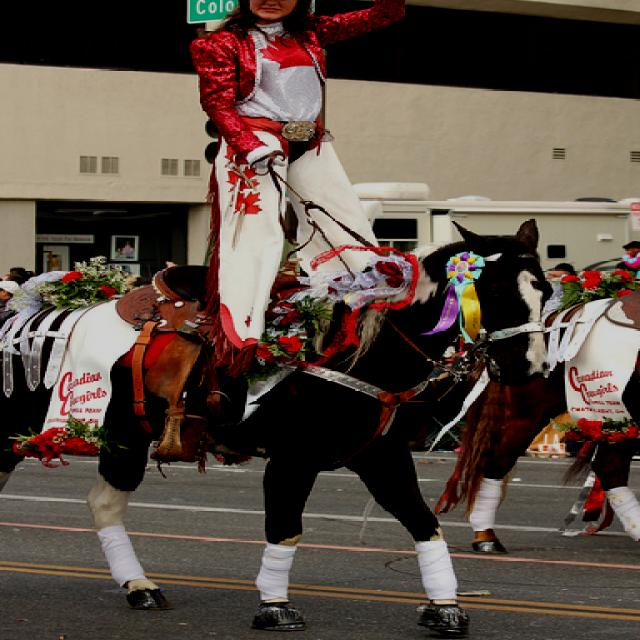Vehicle: (351, 182, 640, 271)
